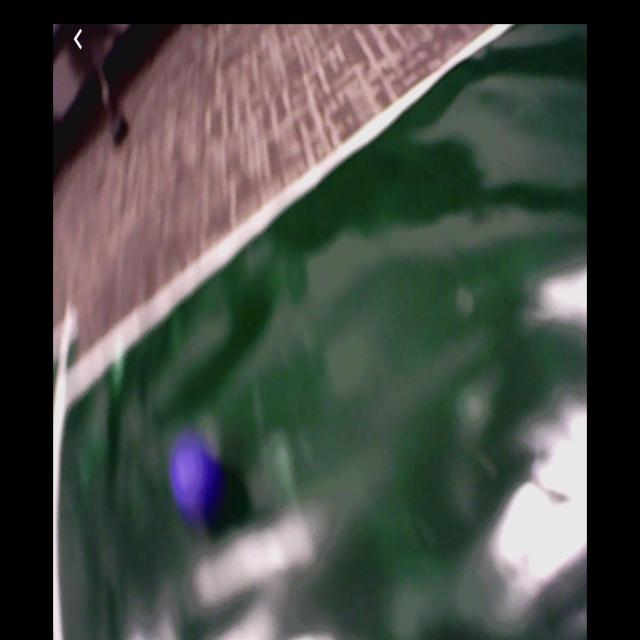ball: (167, 433, 217, 519)
